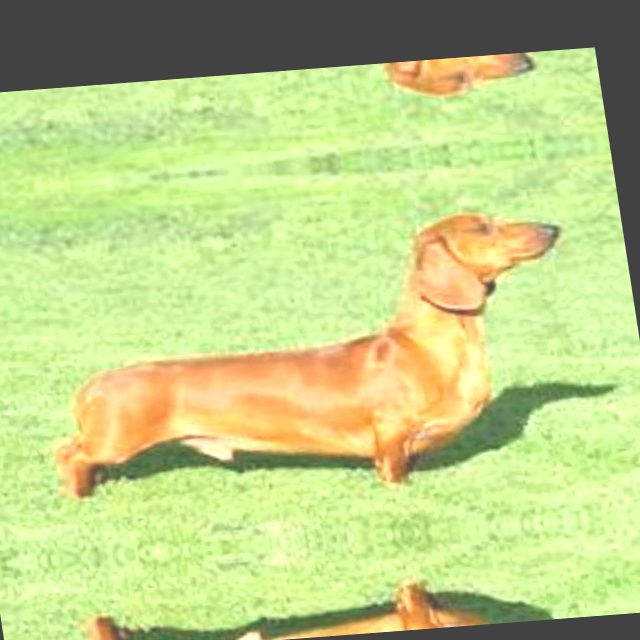dog: (0, 200, 603, 545), (47, 533, 620, 640), (0, 52, 540, 136)
